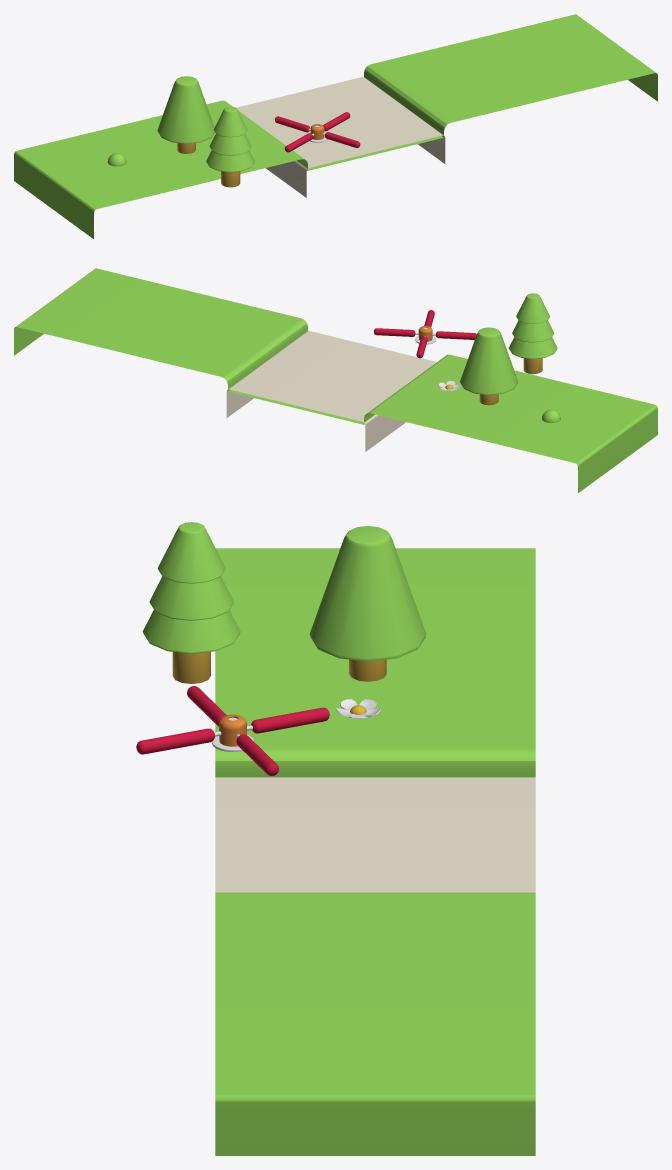
3 renders of one model, top to bottom at view 1: azimuth 30°, elevation 25°; view 2: azimuth 150°, elevation 25°; view 3: azimuth 270°, elevation 25°, orthographic. The views are drawn at different scales.
Visible parts, largest first — view 1: pCube2, pCube1, pCylinder2, pCylinder4, pCylinder6, pCylinder5; view 2: pCube2, pCube1, pCylinder2, pCylinder4, pCylinder6, pCylinder5; view 3: pCube2, pCube1, pCylinder2, pCylinder4, pCylinder6, pCylinder5, pCylinder3, pCylinder11, pCylinder15.
Part boxes in pixels (box(x1,y1,x2,y2)): pCube2: box(14, 14, 657, 238); pCube1: box(236, 77, 445, 197); pCylinder2: box(157, 76, 214, 143); pCylinder4: box(206, 150, 254, 172); pCylinder6: box(213, 106, 247, 137); pCylinder5: box(209, 134, 251, 155); pCube2: box(14, 268, 657, 492); pCube1: box(226, 331, 436, 451); pCylinder2: box(460, 327, 518, 395); pCylinder4: box(509, 337, 557, 359); pCylinder6: box(516, 293, 549, 323); pCylinder5: box(512, 320, 554, 342); pCube2: box(215, 548, 535, 1155); pCube1: box(215, 777, 535, 892); pCylinder2: box(309, 526, 426, 661); pCylinder4: box(143, 610, 240, 653); pCylinder6: box(157, 522, 225, 583); pCylinder5: box(149, 576, 233, 620); pCylinder3: box(172, 652, 210, 683); pCylinder11: box(136, 728, 214, 754); pCylinder15: box(251, 707, 329, 733).
Size of the model in its own units: 24.12 by 4.64 by 7.39.
